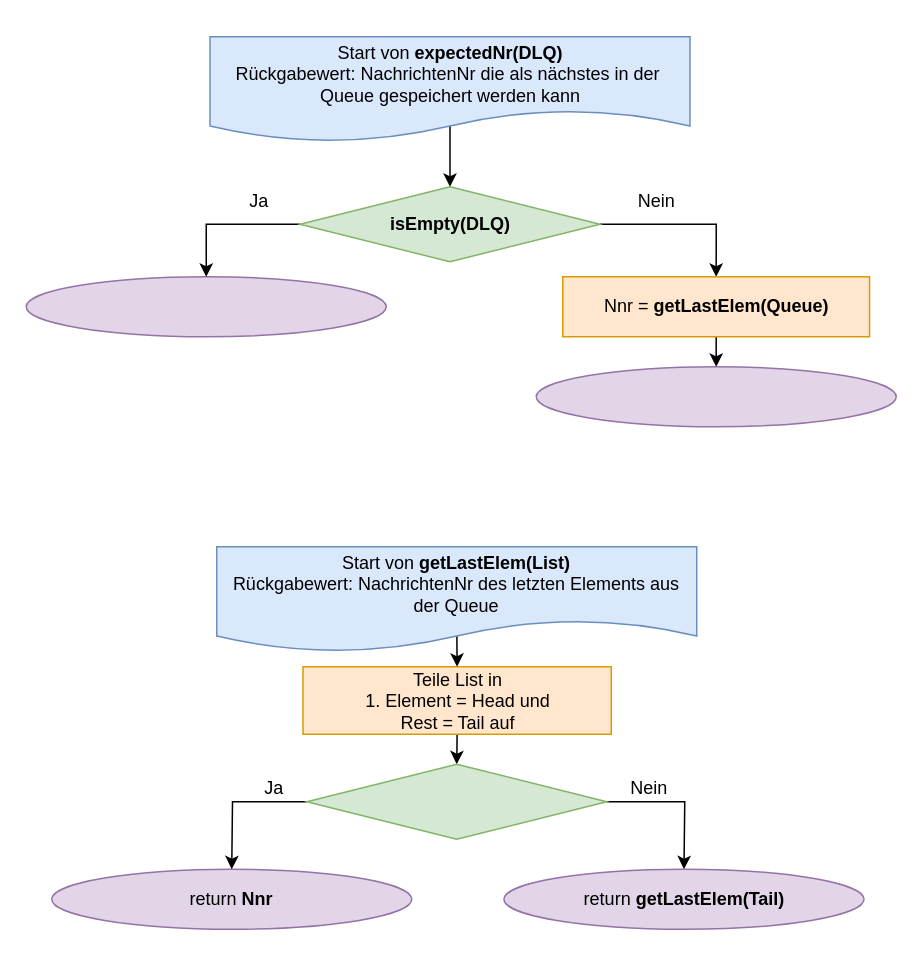
Image size: 923x956. Some labels were removed from this diagram. The shapes that lost their labels are listed below. From the top down, each one's box as (x1, y1, x2, y2) in pixels, then its label:
(25, 275, 386, 337): return 1
(535, 365, 896, 427): return Nnr + 1
(305, 763, 607, 839): isEmpty(Tail)
